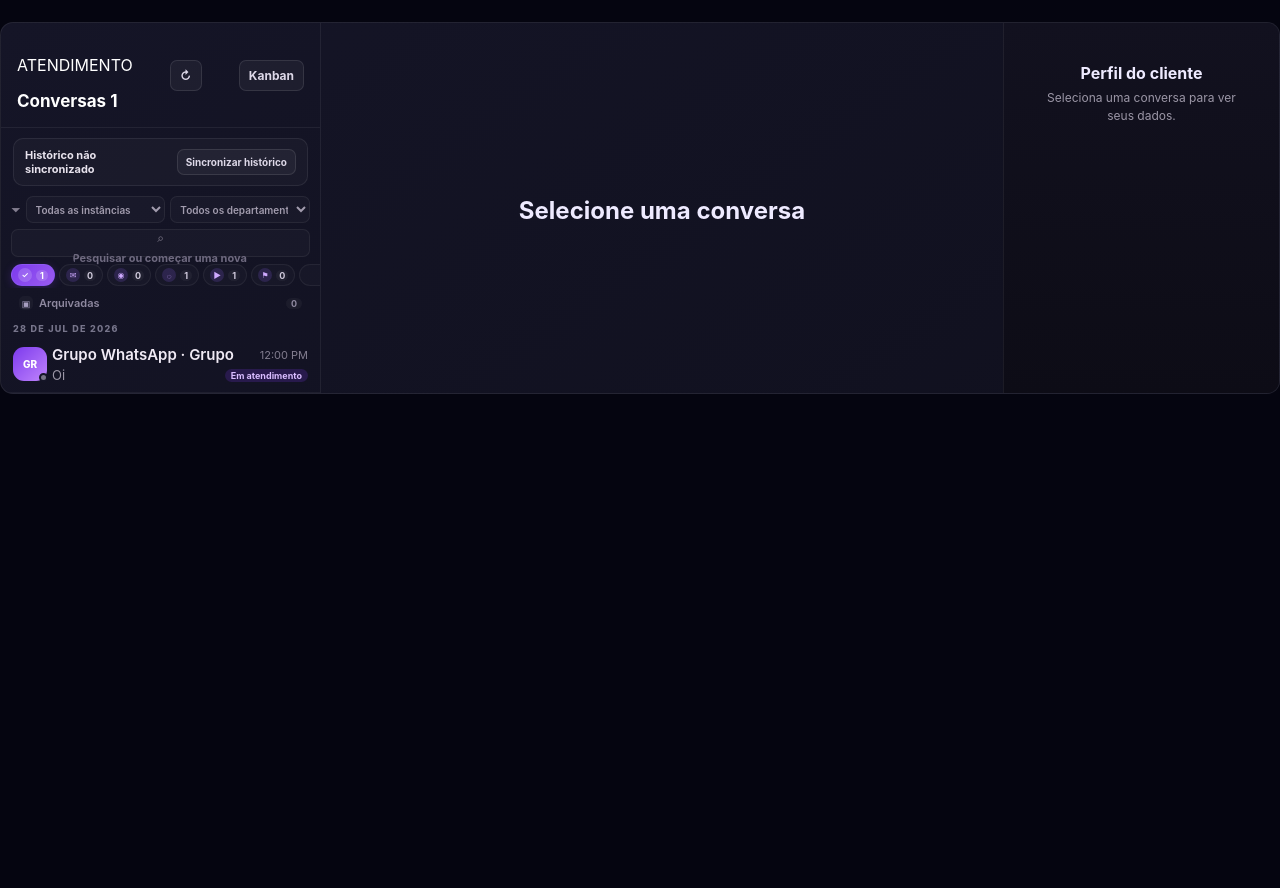
Test: Inbox group mentions › highlights mentions on received messages, resolving @digits to the participant name
Click the button with class "conversation-item": (160, 364) [1,336,320,393]
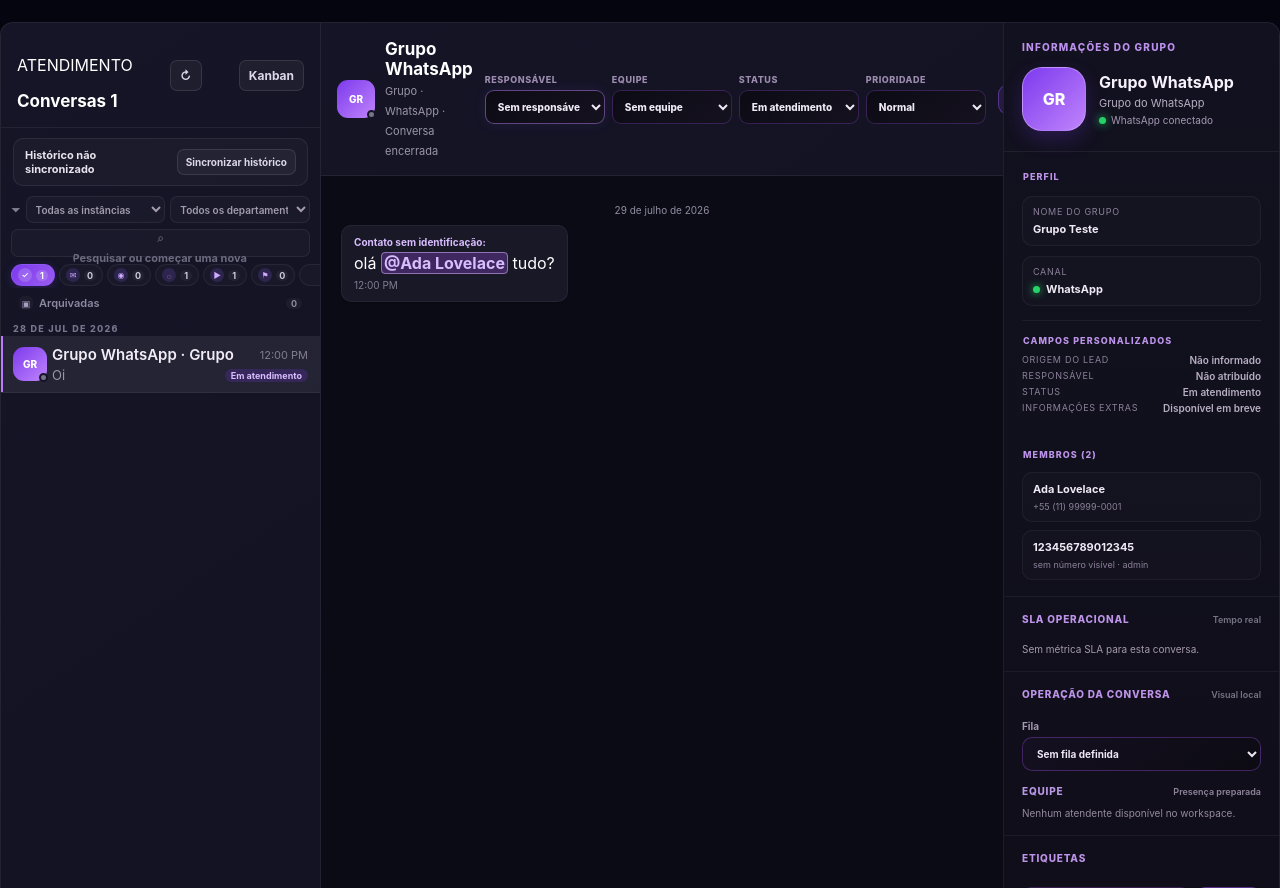
Expected: the text with class "message-mention" reads "@Ada Lovelace", [384,253,505,273]
